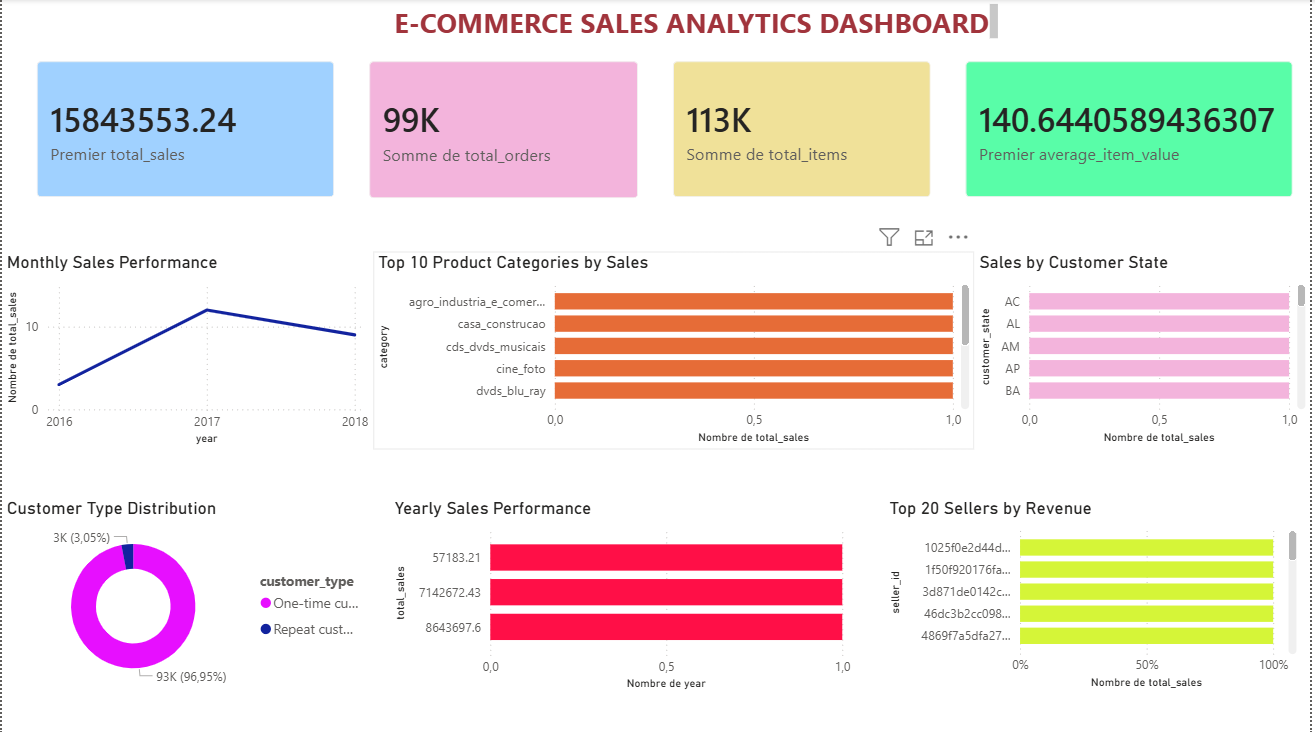

Layout of this report page (visuals, bound fields, positions):
{"tool":"powerbi","page":{"name":"Page 1","canvas":[1280,720],"ordinal":0},"visuals":[{"type":"cardVisual","fields":{"Data":["Min(overall_kpis.total_sales)"]},"box":[17.1,44,325.3,167.5],"z":0},{"type":"cardVisual","fields":{"Data":["Sum(overall_kpis.total_orders)"]},"box":[342.4,44,297.1,168.8],"z":1000},{"type":"cardVisual","fields":{"Data":["Sum(overall_kpis.total_items)"]},"box":[639.5,44,286.1,167.5],"z":2000},{"type":"cardVisual","fields":{"Data":["Min(overall_kpis.average_item_value)"]},"box":[925.7,44,354.6,167.5],"z":3000},{"type":"textbox","box":[379.1,0,600.4,44],"z":4000},{"type":"lineChart","title":"Monthly Sales Performance","fields":{"Y":["CountNonNull(monthly_sales.total_sales)"],"Category":["monthly_sales.year","monthly_sales.month"]},"box":[0,247,363.2,194.4],"z":5000},{"type":"clusteredBarChart","title":"Top 10 Product Categories by Sales","fields":{"Y":["CountNonNull(category_sales.total_sales)"],"Category":["category_sales.category"]},"box":[363.2,247,588.2,193.2],"z":6000},{"type":"clusteredBarChart","title":"Sales by Customer State","fields":{"Category":["state_sales.customer_state"],"Y":["CountNonNull(state_sales.total_sales)"]},"box":[951.4,247,328.9,193.2],"z":7000},{"type":"donutChart","title":"Customer Type Distribution","fields":{"Category":["customer_type.customer_type"],"Y":["Sum(customer_type.customer_count)"]},"box":[0,487.9,363.2,193.2],"z":8000},{"type":"clusteredBarChart","title":"Yearly Sales Performance","fields":{"Y":["Count(yearly_sales.year)"],"Category":["yearly_sales.total_sales","yearly_sales.orders"]},"box":[379.1,487.9,456.1,193.2],"z":9000},{"type":"hundredPercentStackedBarChart","title":"Top 20 Sellers by Revenue","fields":{"Category":["top_sellers.seller_id"],"Y":["CountNonNull(top_sellers.total_sales)"]},"box":[863.3,487.9,408.4,192],"z":10000}]}

Visuals, with their boxes in screenshot pixels (x1, y1, x2, y2), scaled from the page's 1280x720 canvas onto the 1315x732 screenshot:
cardVisual - Min(overall_kpis.total_sales): <region>18, 45, 352, 215</region>
cardVisual - Sum(overall_kpis.total_orders): <region>352, 45, 657, 216</region>
cardVisual - Sum(overall_kpis.total_items): <region>657, 45, 951, 215</region>
cardVisual - Min(overall_kpis.average_item_value): <region>951, 45, 1314, 215</region>
textbox: <region>389, 0, 1006, 45</region>
"Monthly Sales Performance" lineChart: <region>0, 251, 373, 449</region>
"Top 10 Product Categories by Sales" clusteredBarChart: <region>373, 251, 977, 448</region>
"Sales by Customer State" clusteredBarChart: <region>977, 251, 1314, 448</region>
"Customer Type Distribution" donutChart: <region>0, 496, 373, 692</region>
"Yearly Sales Performance" clusteredBarChart: <region>389, 496, 858, 692</region>
"Top 20 Sellers by Revenue" hundredPercentStackedBarChart: <region>887, 496, 1306, 691</region>
